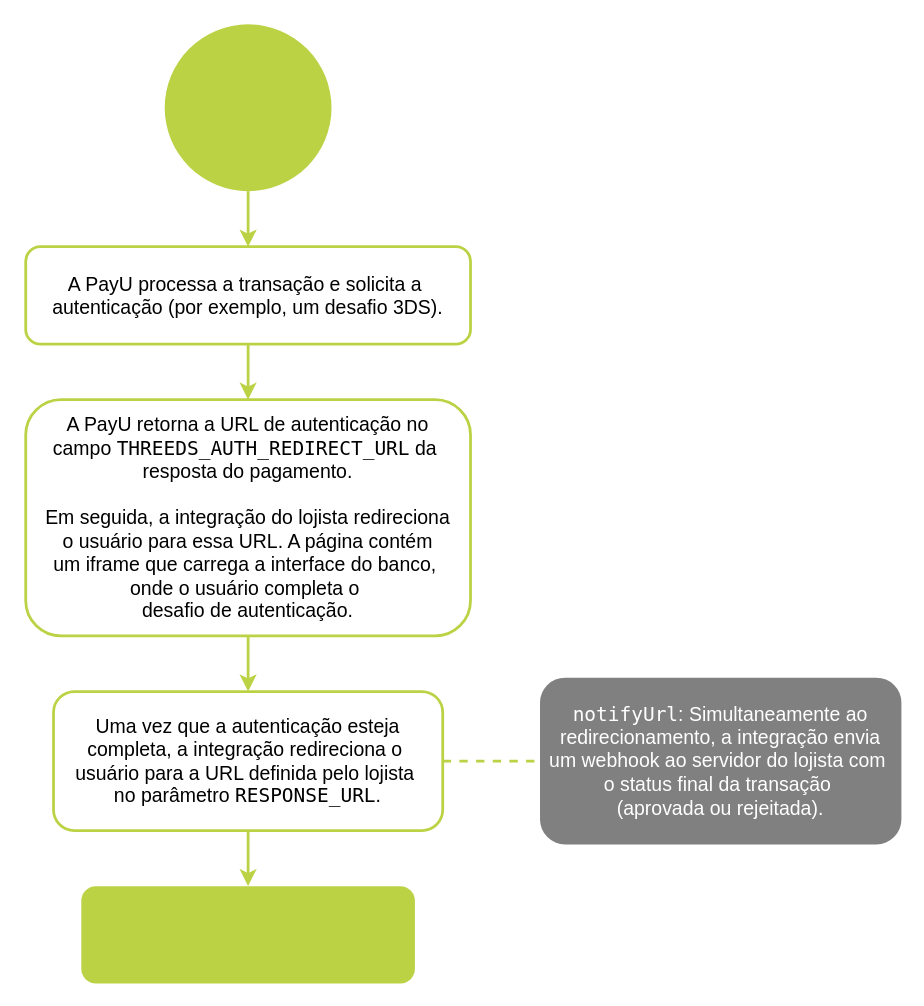
Image size: 924x1006. Some labels were removed from this diagram. The shapes that lost their labels are listed below. From the top down, each one's centre as x and y in pixels, then its label:
At point (247, 107): "O usuário inicia um pagamento no site do lojista .".
At point (247, 934): "O lojista exibe o resultado do pagamento ao usuário em seu site .".
